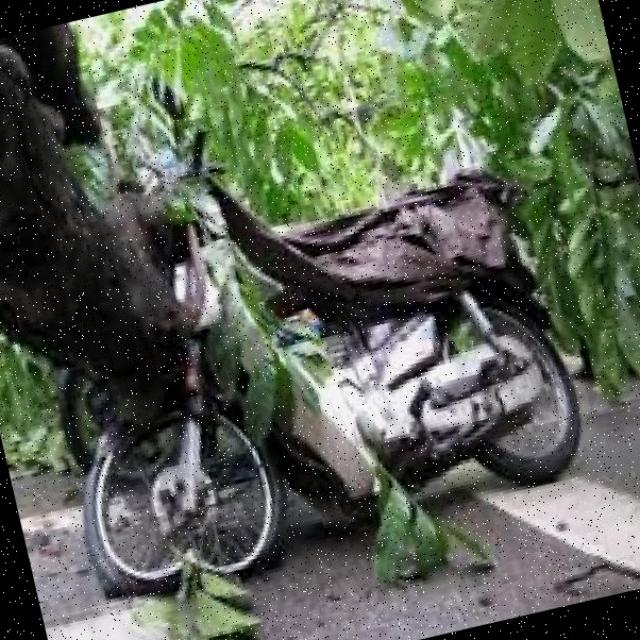fallen_object: (0, 0, 451, 445)
